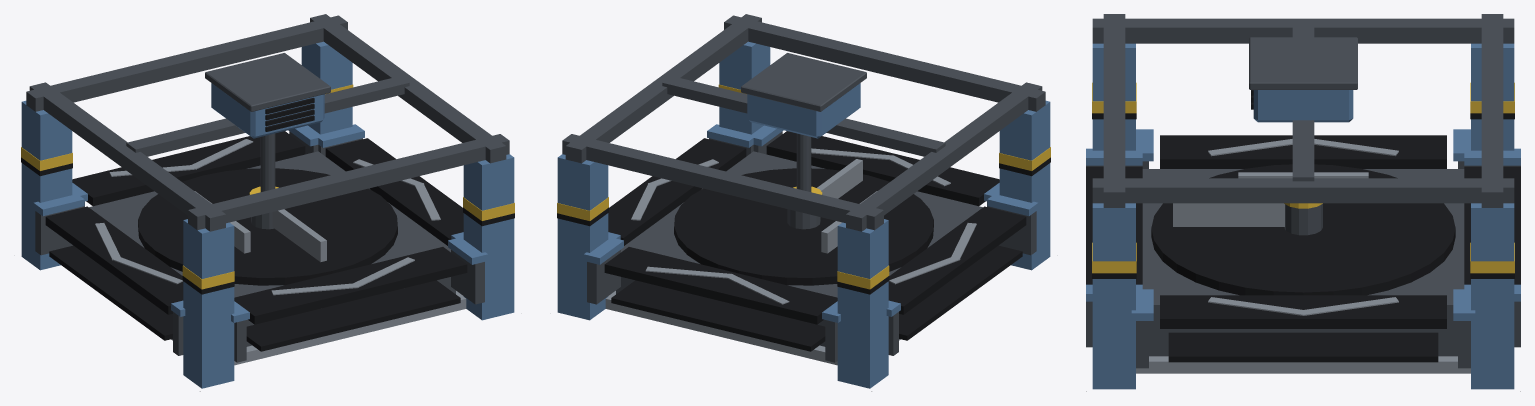
File: separateur.glb
The picture shows the model from 3 angles, left to right: view 1: azimuth 30°, elevation 25°; view 2: azimuth 150°, elevation 25°; view 3: azimuth 270°, elevation 25°; orthographic projection. The views are drawn at different scales.
Parts seen in each view (by area): view 1: pieces_acier_sombre.022, pieces_noir.030, pieces_separateur.002, plateau_fond.006, bande_acier.048, pieces_acier.054, aiguillage_acier.004, pieces_jaune.024; view 2: pieces_acier_sombre.022, pieces_noir.030, pieces_separateur.002, plateau_fond.006, bande_acier.048, pieces_acier.054, pieces_jaune.024, aiguillage_acier.004, aiguillage_acier_sombre.004; view 3: pieces_acier_sombre.022, pieces_noir.030, pieces_separateur.002, plateau_fond.006, pieces_acier.054, aiguillage_acier.004, bande_acier.048, pieces_jaune.024, aiguillage_acier_sombre.004.
Boxes of the visible parts, left/top/right/bottom form: pieces_acier_sombre.022: left=26, top=14, right=509, bottom=362; pieces_noir.030: left=21, top=97, right=514, bottom=351; pieces_separateur.002: left=21, top=41, right=514, bottom=388; plateau_fond.006: left=138, top=168, right=397, bottom=285; bande_acier.048: left=95, top=139, right=440, bottom=295; pieces_acier.054: left=171, top=291, right=466, bottom=365; aiguillage_acier.004: left=194, top=191, right=326, bottom=262; pieces_jaune.024: left=21, top=84, right=514, bottom=289; pieces_acier_sombre.022: left=562, top=14, right=1045, bottom=362; pieces_noir.030: left=557, top=131, right=1050, bottom=351; pieces_separateur.002: left=557, top=41, right=1050, bottom=388; plateau_fond.006: left=674, top=168, right=933, bottom=285; bande_acier.048: left=631, top=148, right=976, bottom=304; pieces_acier.054: left=605, top=291, right=900, bottom=365; pieces_jaune.024: left=557, top=84, right=1050, bottom=289; aiguillage_acier.004: left=817, top=159, right=877, bottom=253; aiguillage_acier_sombre.004: left=787, top=209, right=820, bottom=229; pieces_acier_sombre.022: left=1086, top=14, right=1520, bottom=368; pieces_noir.030: left=1086, top=90, right=1520, bottom=362; pieces_separateur.002: left=1086, top=43, right=1520, bottom=389; plateau_fond.006: left=1151, top=164, right=1455, bottom=295; pieces_acier.054: left=1136, top=356, right=1470, bottom=373; aiguillage_acier.004: left=1173, top=172, right=1368, bottom=226; bande_acier.048: left=1208, top=139, right=1398, bottom=315; pieces_jaune.024: left=1092, top=82, right=1514, bottom=273; aiguillage_acier_sombre.004: left=1284, top=204, right=1322, bottom=235.
Bounding box in the file's own units: 1 × 0.61 × 1.
